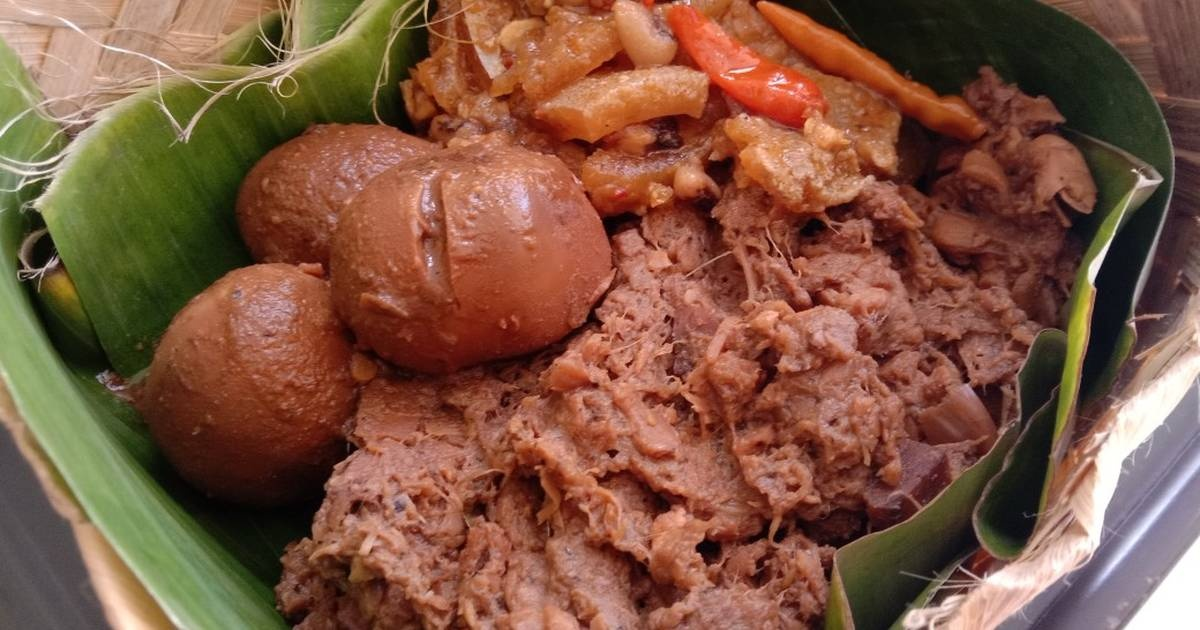gudeg: (126, 4, 1067, 600)
